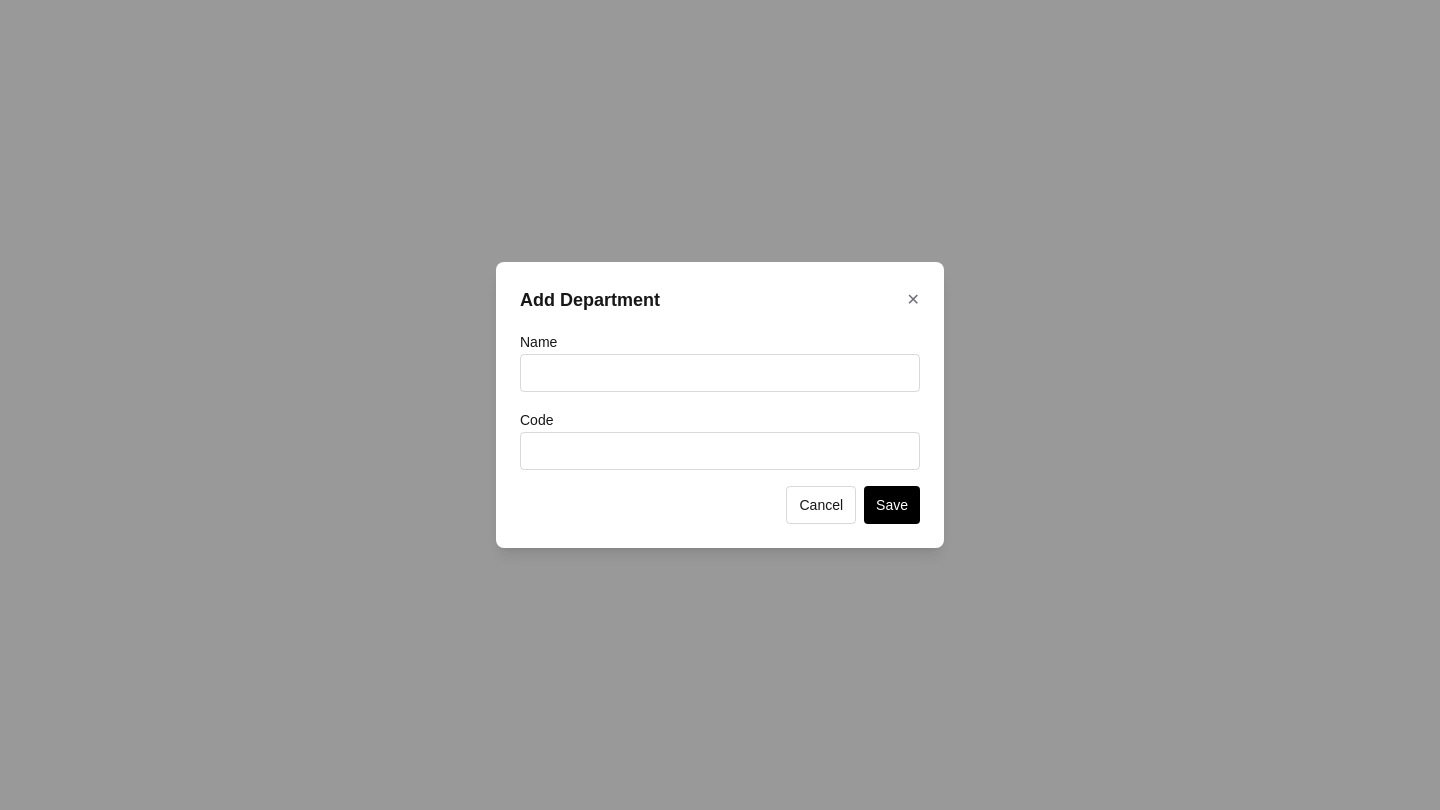
Scenario: DepartmentFormModal › UT03: shows inline DUPLICATE_CODE when creating with a duplicate code
The width and height of the screenshot is (1440, 810).
In the field labelled "Name": (720, 373) [520,354,920,392], type "Engineering"
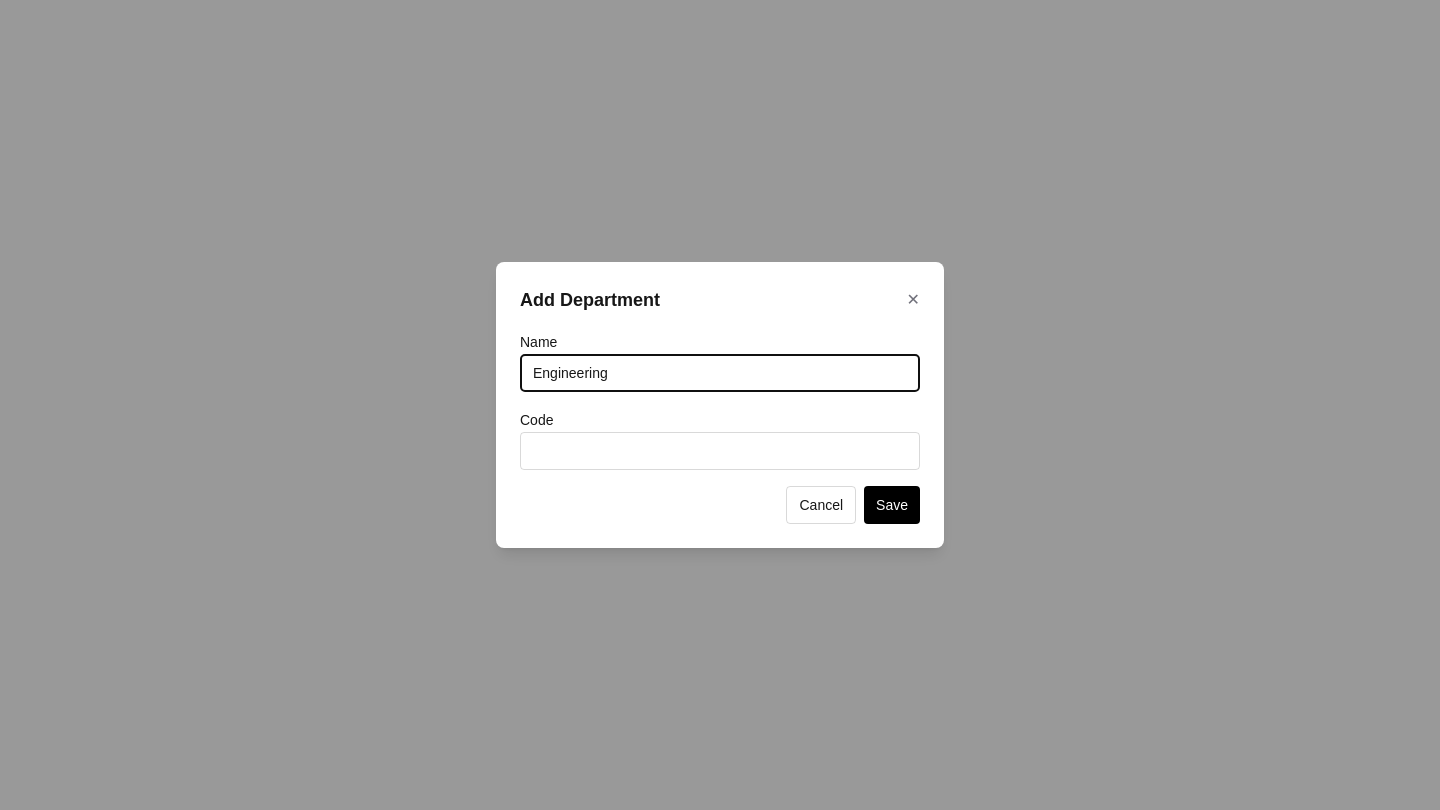
In the field labelled "Code": (720, 451) [520,432,920,470], type "ENG"
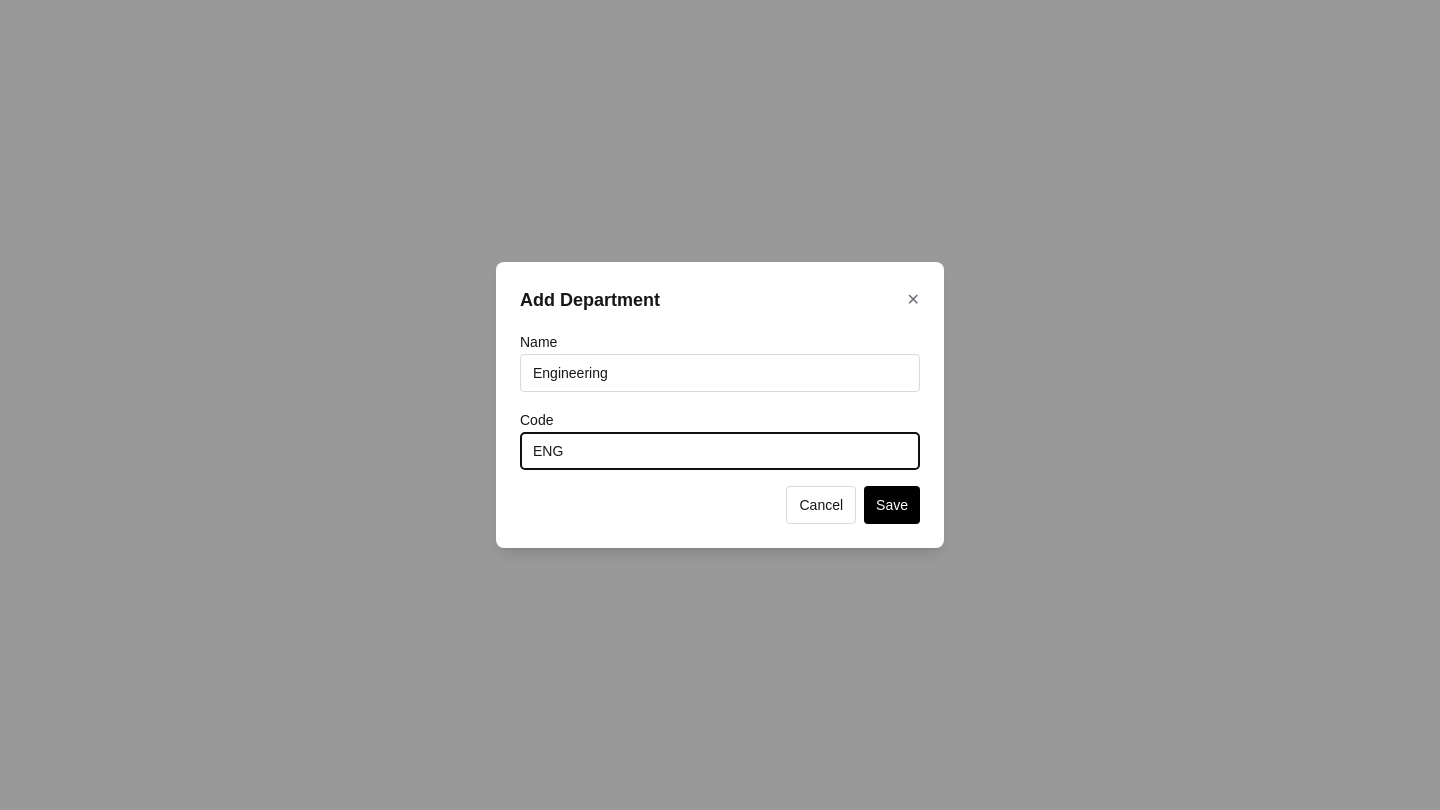
Click the button "Save": click(892, 505) [864,486,920,524]
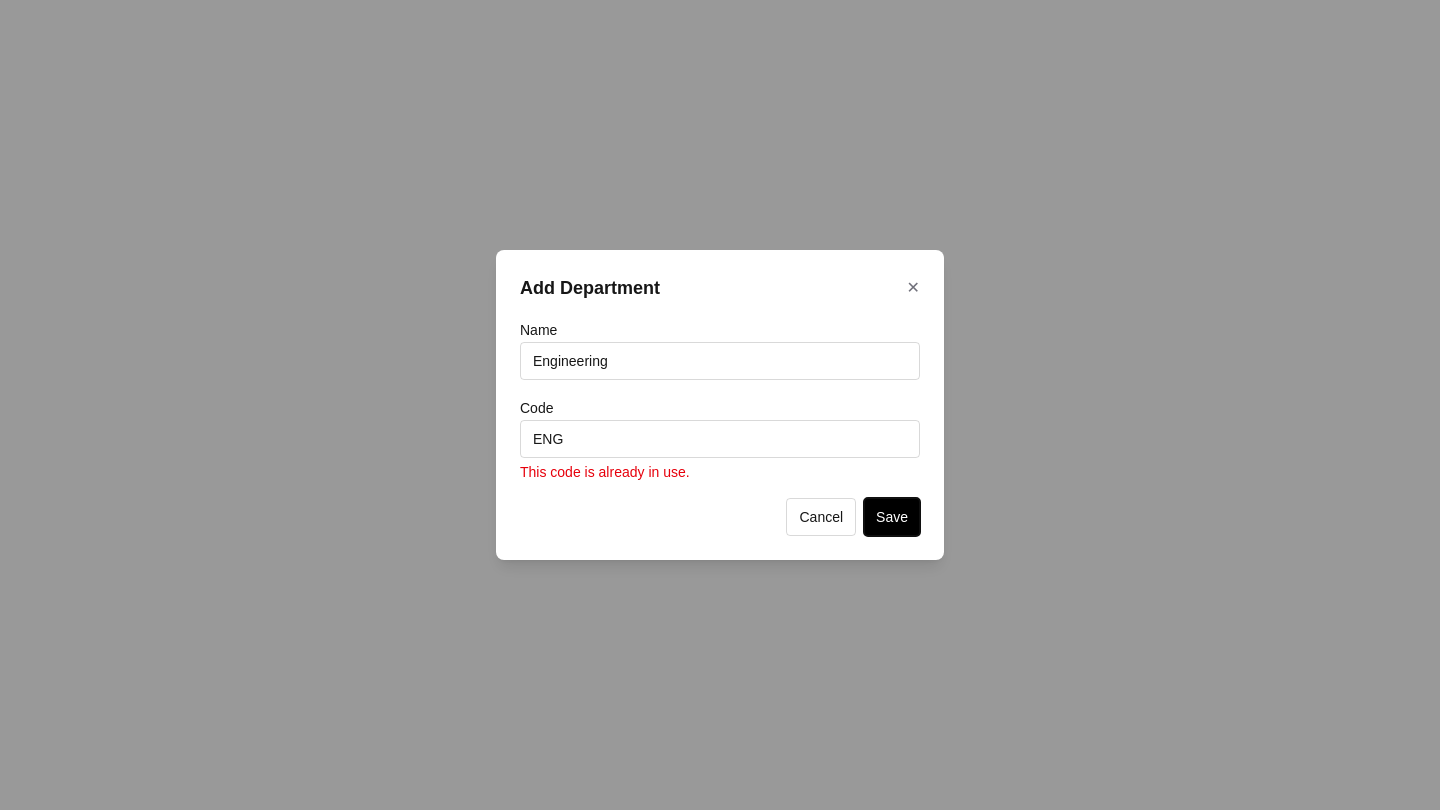
expect the text "This code is already in use." is shown: met, box [520,464,690,480]
